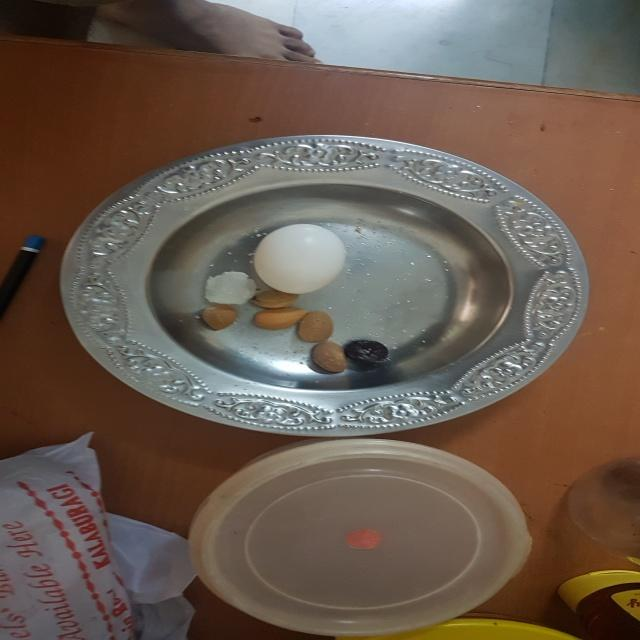eggs: (253, 221, 349, 293)
